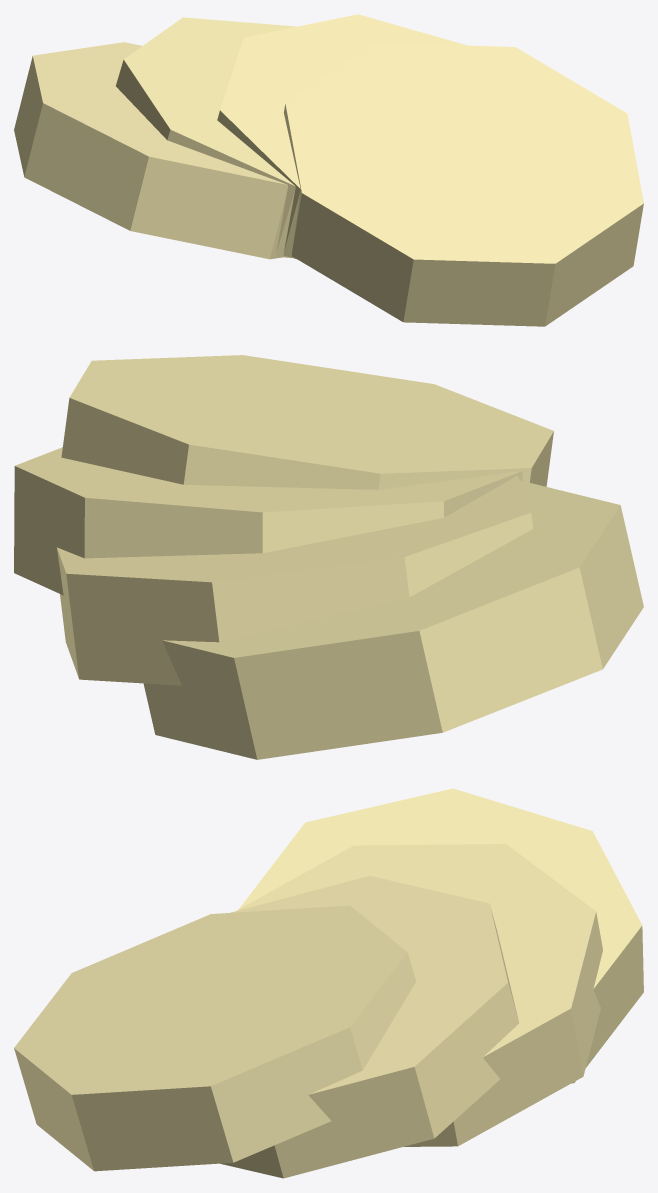
Rendered from TopBanana.fbx.
The picture shows the model from 3 angles, top to bottom: view 1: azimuth 30°, elevation 25°; view 2: azimuth 150°, elevation 25°; view 3: azimuth 270°, elevation 25°; orthographic projection. The views are drawn at different scales.
Parts seen in each view (by area): view 1: TopBanana; view 2: TopBanana; view 3: TopBanana.
Boxes of the visible parts, left/top/right/bottom form: TopBanana: left=14, top=14, right=643, bottom=326; TopBanana: left=14, top=355, right=643, bottom=759; TopBanana: left=14, top=788, right=643, bottom=1178.
Size of the model in its own units: 0.0844 by 0.0261 by 0.0866.
